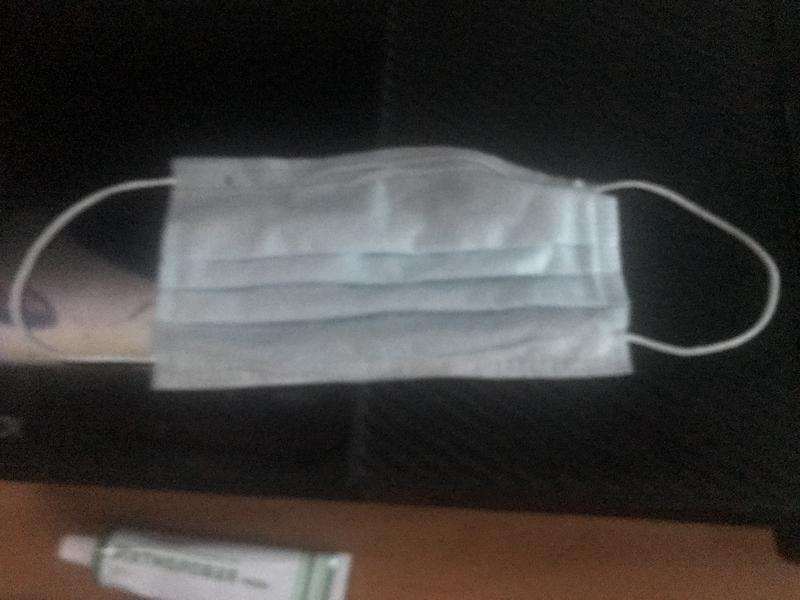medical_mask: (12, 150, 782, 382)
